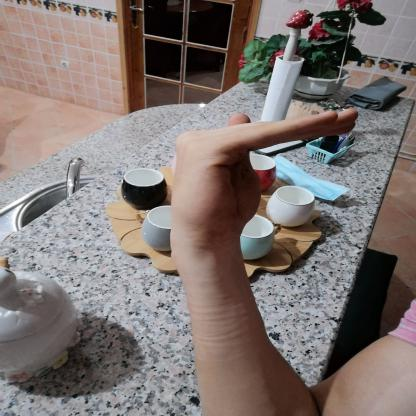KHAA: (144, 98, 386, 266)
